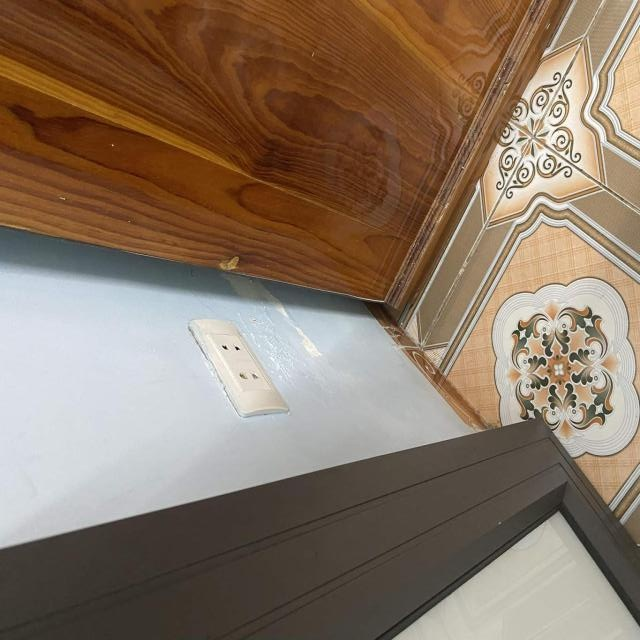outlet: (187, 319, 290, 418)
